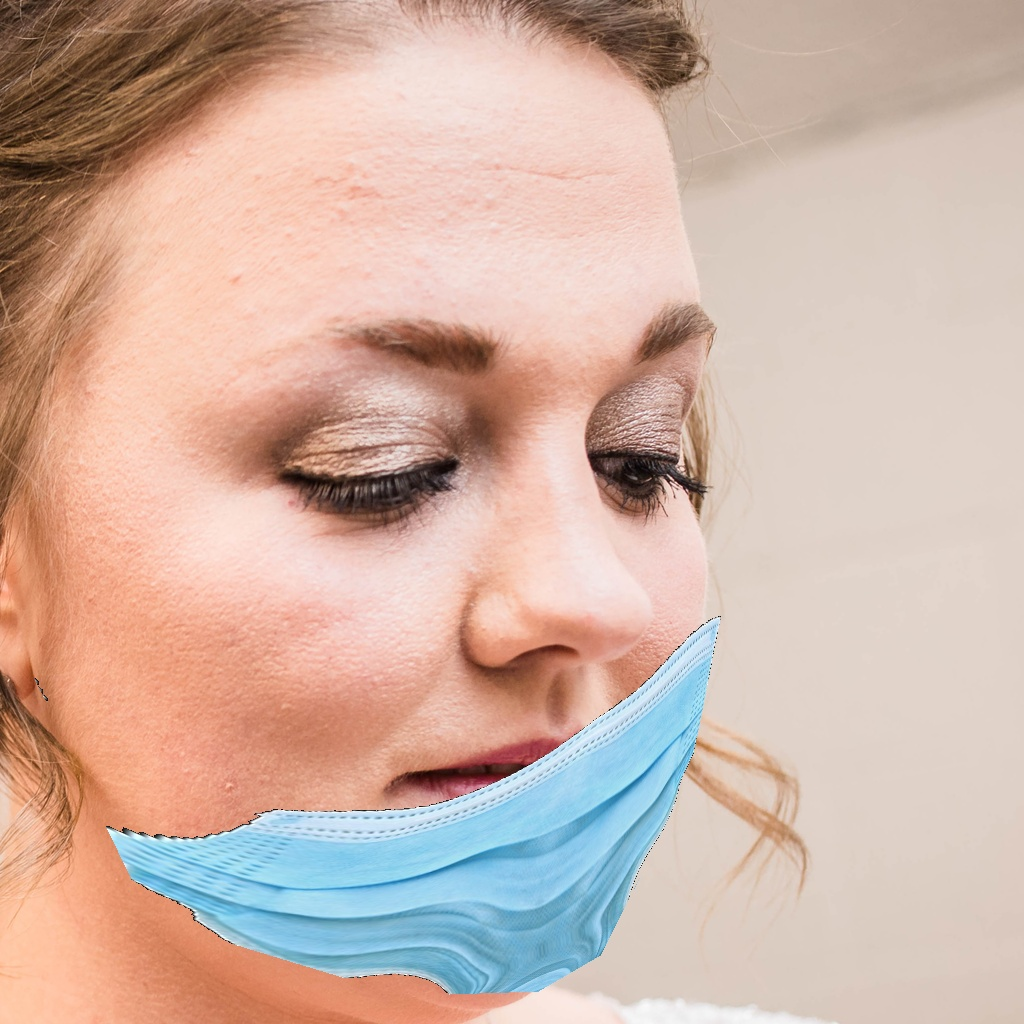mascarilla_mal_puesta: (152, 325, 749, 998)
